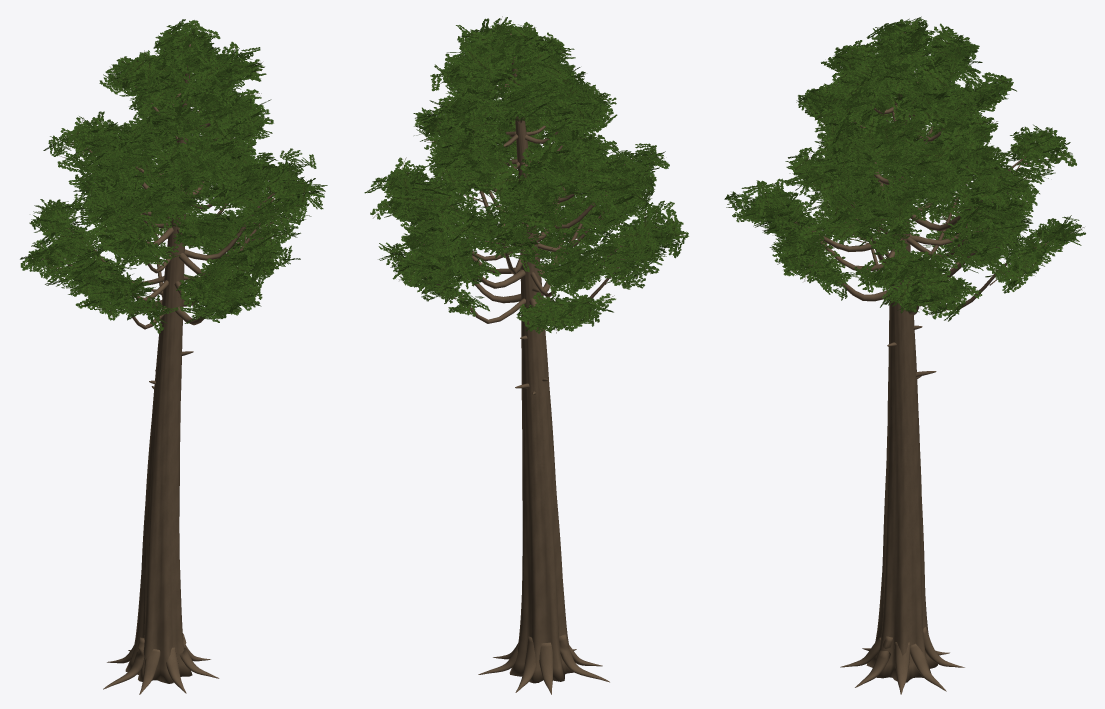
Rendered from GF2_Tree_B_Leaning_LOD0.fbx.
3 renders of one model, left to right at view 1: azimuth 30°, elevation 25°; view 2: azimuth 150°, elevation 25°; view 3: azimuth 270°, elevation 25°, orthographic. The views are drawn at different scales.
Visible parts, largest first — view 1: GF2_Tree_B_Leaning.001; view 2: GF2_Tree_B_Leaning.001; view 3: GF2_Tree_B_Leaning.001.
Part boxes in pixels (x1=…): GF2_Tree_B_Leaning.001: x1=20, y1=19, x2=327, y2=694; GF2_Tree_B_Leaning.001: x1=364, y1=16, x2=688, y2=694; GF2_Tree_B_Leaning.001: x1=724, y1=16, x2=1085, y2=694.
Bounding box in the file's own units: 49.83 × 106 × 53.85.
2 materials, 2 textured.
